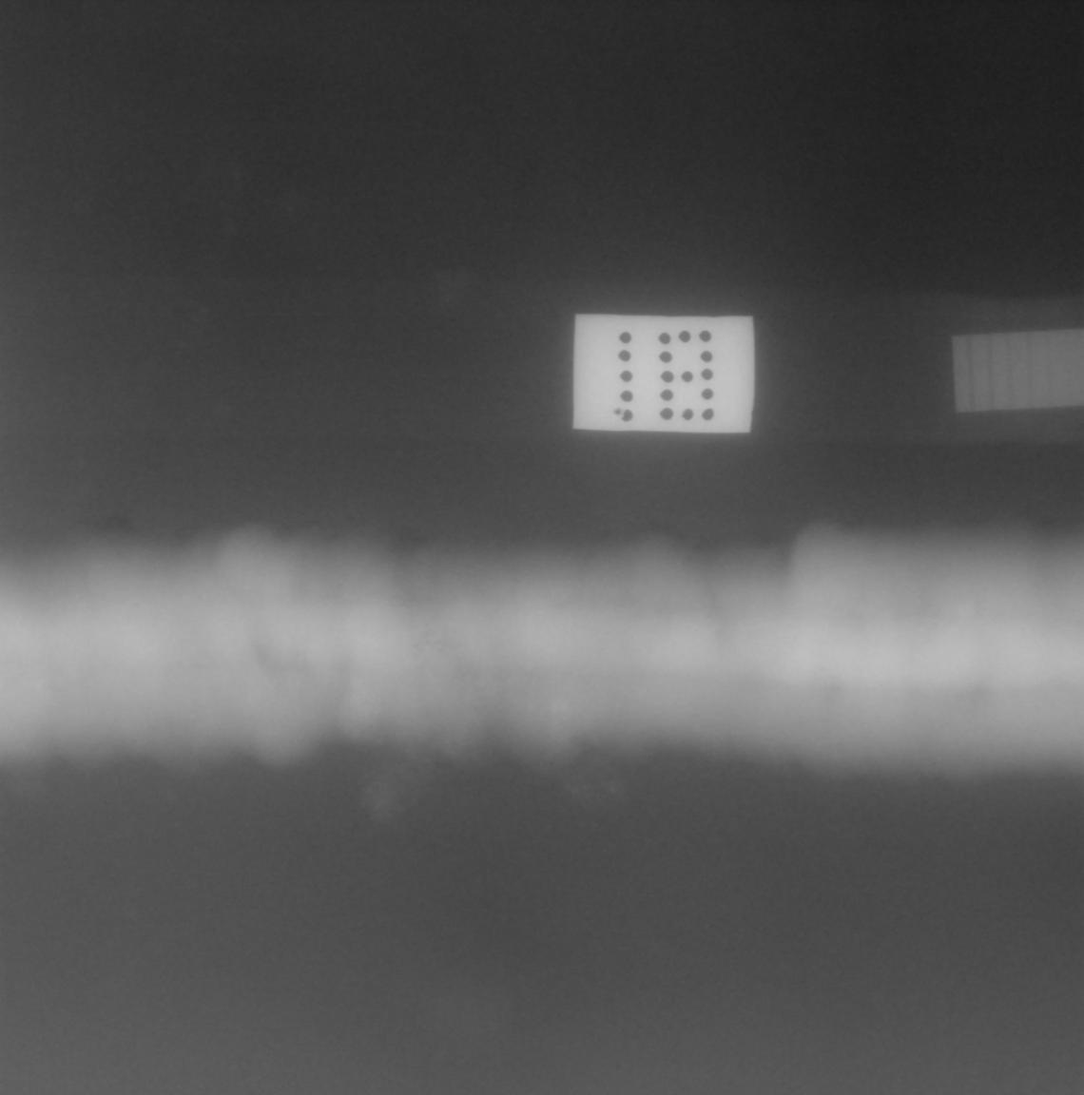Undercut: (110, 517, 134, 528)
